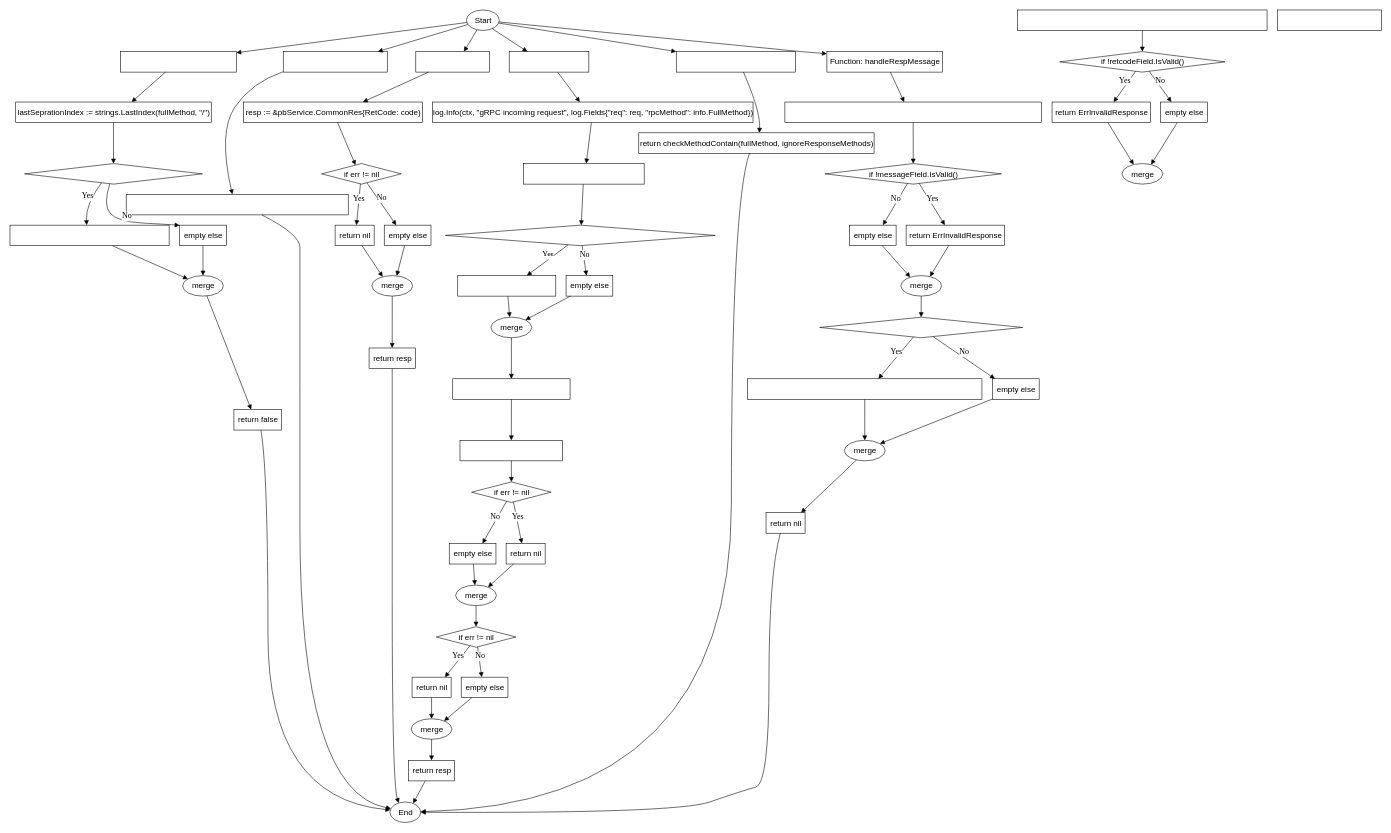
Some shapes in this 1391 by 833 pixel diagram are drawn without their labels. The centre of each missing label's shape, as x and y in pixels:
code := validateParams(ctx, req): (583,173)
ctx = utils.DuplicateContext(ctx): (511,388)
Function: checkMethodContain: (178,61)
Function: checkResponseIgnore: (736,61)
Function: genResp: (452,61)
Function: getFunctionName: (335,61)
Function: Interceptor: (549,61)
if code != pbModel.RetCode_SUCCESS: (580,235)
if lastSeprationIndex != -1: (113,173)
if messageField.String() == "": (921,327)
messageField := reflect.ValueOf(resp).Elem().FieldByName("Message"): (913,112)
messageField.SetString(pbModel.RetCode_name[int32(retcode)]): (864,388)
method = fullMethod[lastSeprationIndex+1:]: (89,235)
resp, err = handler(ctx, req): (511,450)
retcode := retcodeField.Int(): (1329,19)
retcodeField := reflect.ValueOf(resp).Elem().FieldByName("RetCode"): (1142,19)
return genResp(ctx, code): (506,285)
return runtime.FuncForPC(reflect.ValueOf(i).Pointer()).Name(): (237,204)
